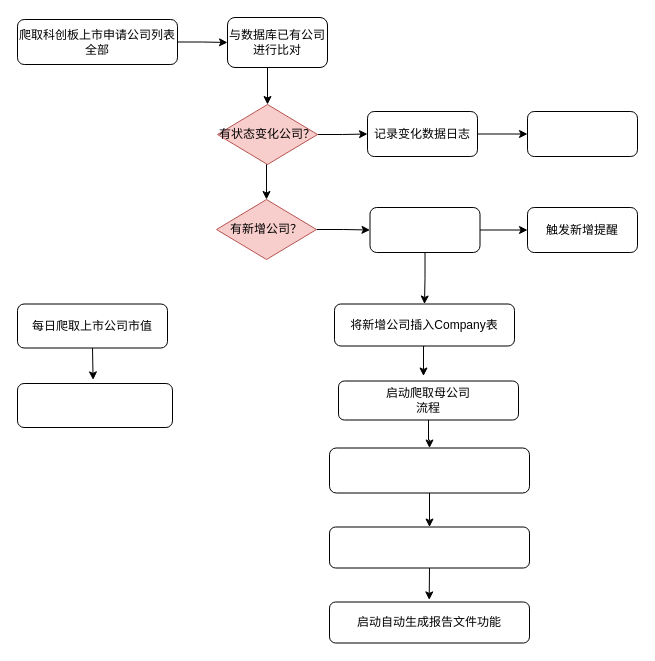
Some shapes in this 655 by 661 pixel diagram are drawn without their labels. Here are the shapes that lost their labels. From the top down, the centre of each, then its label:
At point (582, 133): "触发状态变化提醒".
At point (424, 229): "记录新增公司日志".
At point (94, 405): "更新上市公司市值".
At point (429, 470): "启动从科创板公司向上遍历、持股比例计算流程".
At point (429, 547): "启动A股上市公司匹配科创板持股公司计算流程".
